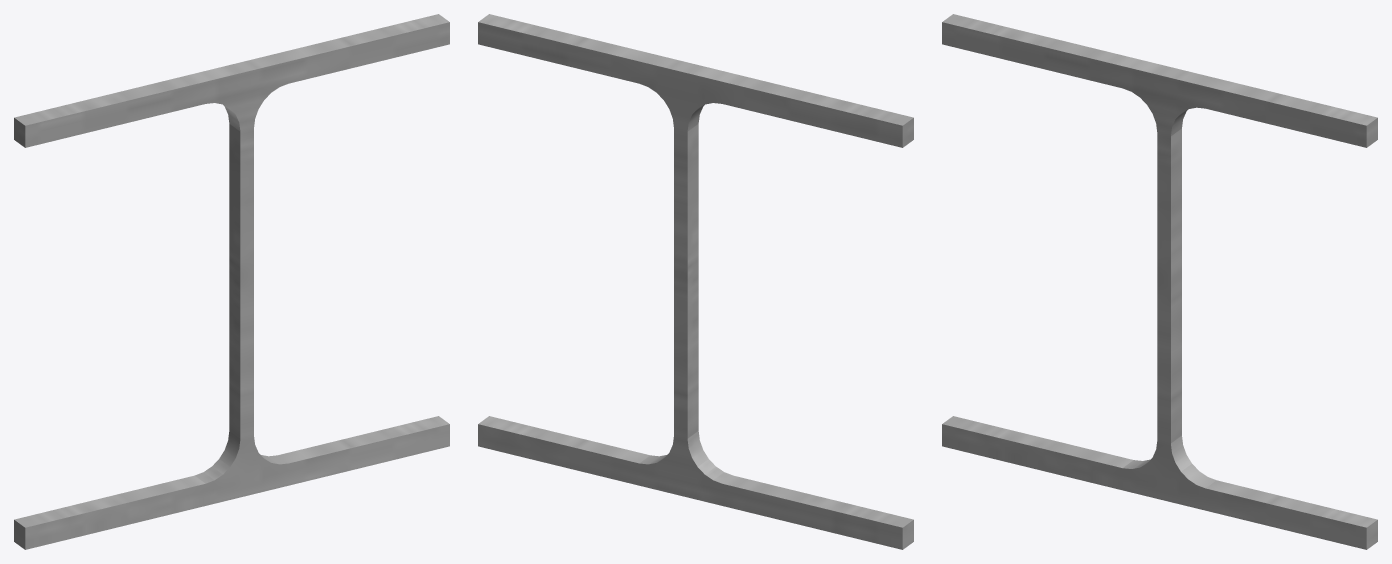
File: HEA220.glb
3 views of the same model, side by side, from view 1: azimuth 30°, elevation 25°; view 2: azimuth 150°, elevation 25°; view 3: azimuth 330°, elevation 25° (orthographic).
Bounding box in the file's own units: 22 × 21 × 1.
1 material, 1 textured.
